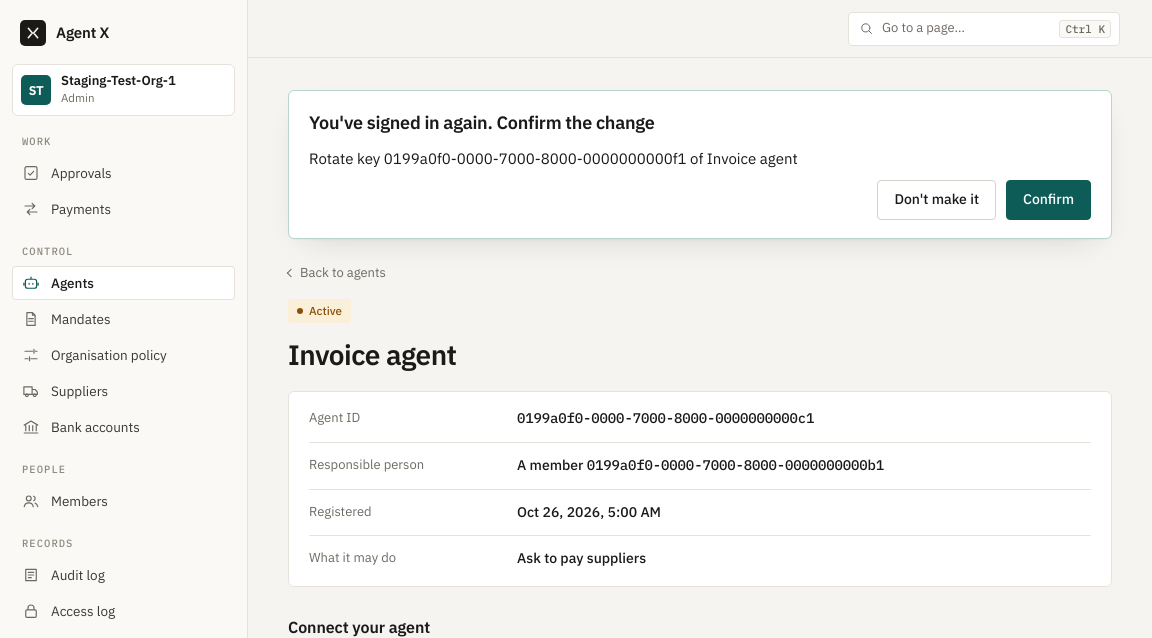
Test: a new key, shown once (6D1) › is gone after Done, the address cleaned and the agent’s page as it was
This screenshot has width=1152, height=638.
Click the button "Confirm". click: (1048, 200)
box: [1006, 180, 1091, 220]
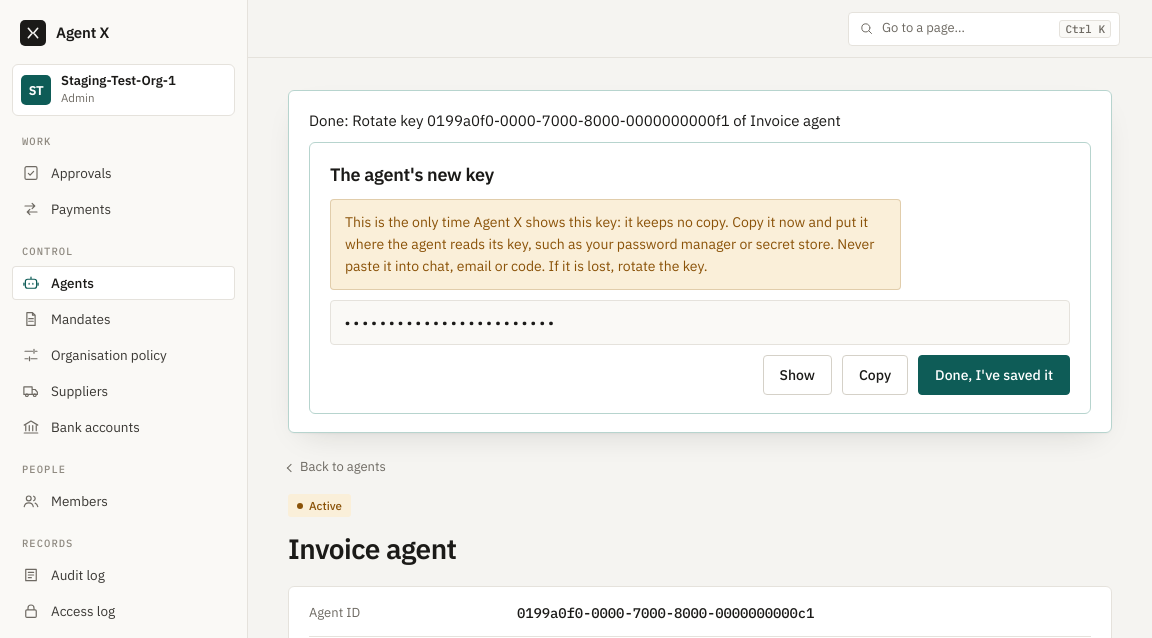
Click the button "Show". click: (797, 376)
box: [762, 356, 832, 396]
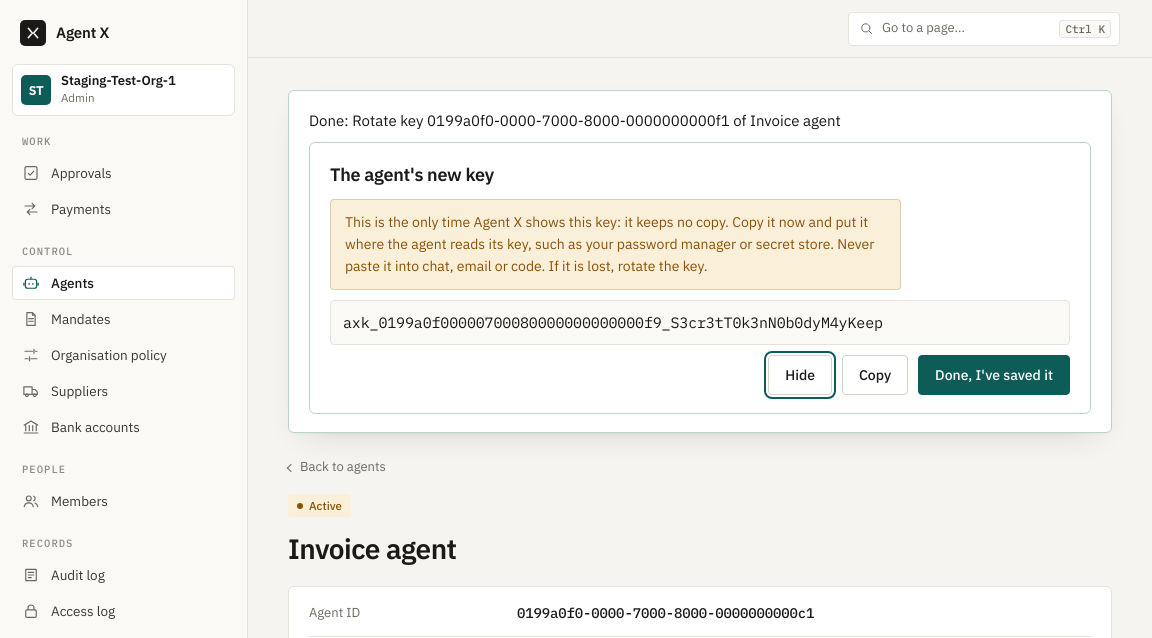
Click the button "Done, I've saved it". click: (994, 376)
box: [918, 356, 1070, 396]
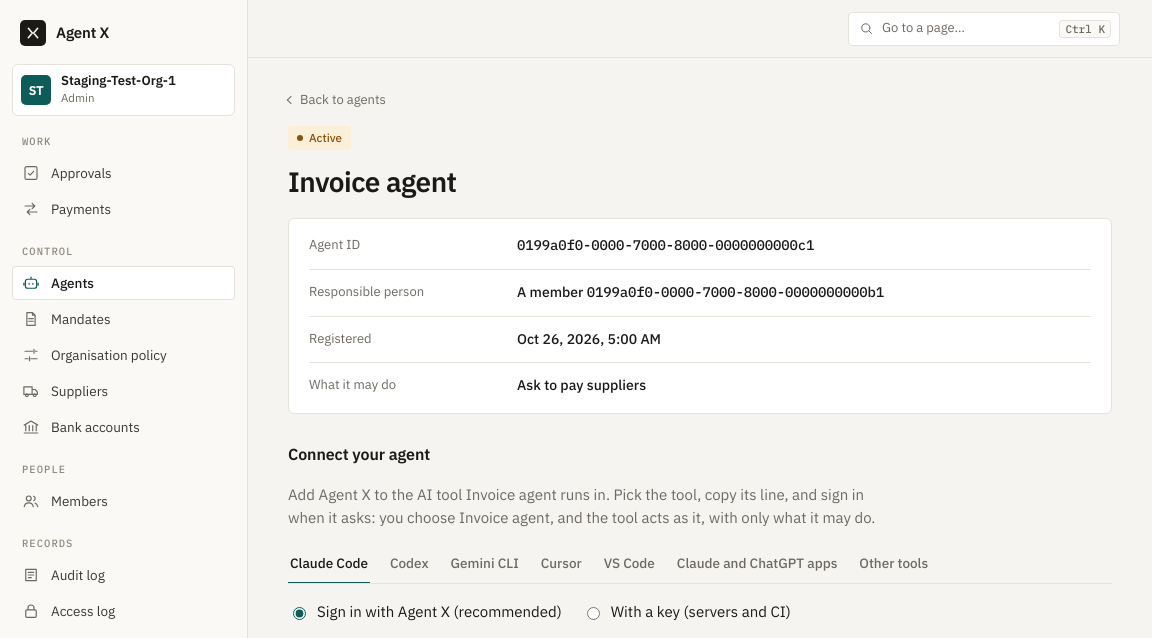
expect the button "Show" is not shown: met
expect the heading "The agent's new key" is gone: met
